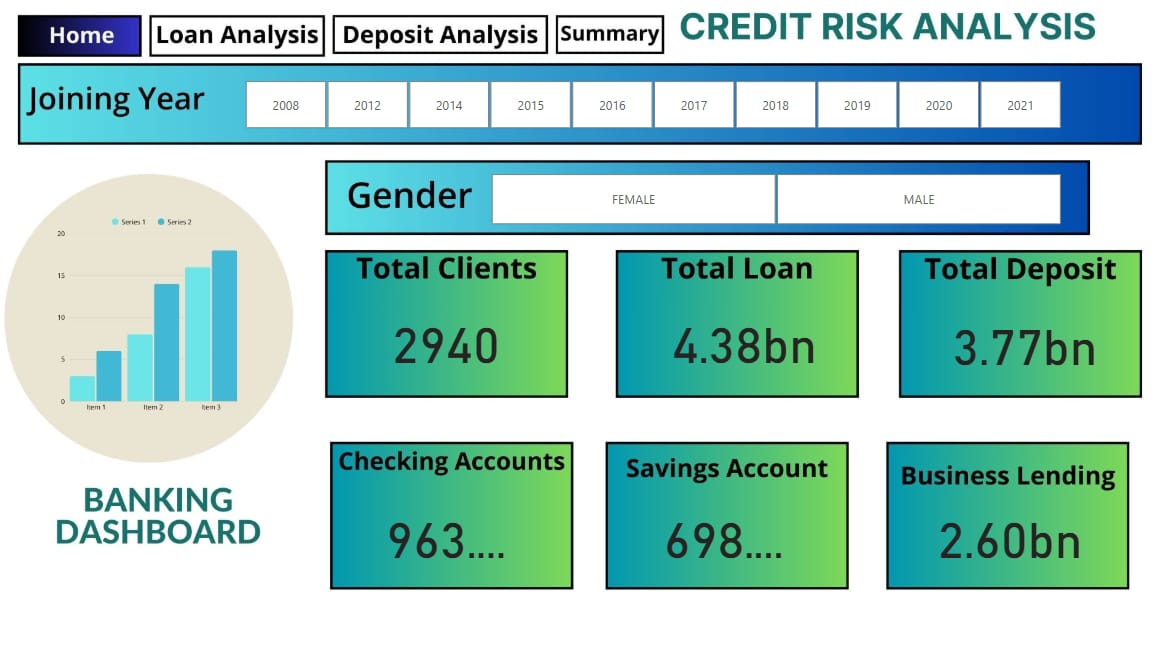

The page's visual inventory and layout, read from the dashboard file:
{"tool":"powerbi","page":{"name":"Home","canvas":[1280,720],"ordinal":0},"visuals":[{"type":"slicer","fields":{"Values":["Banking.Joined Bank.Variation.Date Hierarchy.Year"]},"box":[250,90,933.3,65],"z":0},{"type":"slicer","fields":{"Values":["Banking.GenderId"]},"box":[516.7,190,666.7,68.3],"z":1000},{"type":"card","fields":{"Values":["Count(Banking.Client ID)"]},"box":[386.7,318.3,211.7,115],"z":2000},{"type":"card","fields":{"Values":["Sum(Banking.Loan)"]},"box":[710,318.3,211.7,115],"z":3000},{"type":"card","fields":{"Values":["Sum(Banking.Deposits)"]},"box":[1015,320,211.7,115],"z":4000},{"type":"card","fields":{"Values":["Sum(Banking.Checking Accounts)"]},"box":[386.7,530,211.7,115],"z":5000},{"type":"card","fields":{"Values":["Sum(Banking.Saving Accounts)"]},"box":[688.3,530,211.7,115],"z":6000},{"type":"card","fields":{"Values":["Sum(Banking.Business Lending)"]},"box":[998.3,530,211.7,115],"z":7000},{"type":"actionButton","box":[178.3,26.7,178.3,41.7],"z":8000},{"type":"actionButton","box":[386.7,26.7,211.7,41.7],"z":9000},{"type":"actionButton","box":[615,26.7,115,41.7],"z":10000}]}

Visuals, with their boxes in screenshot pixels (x1, y1, x2, y2), scaled from the page's 1280x720 canvas onto the 1165x649 screenshot:
slicer - Banking.Joined Bank.Variation.Date Hierarchy.Year: {"x1": 228, "y1": 81, "x2": 1077, "y2": 140}
slicer - Banking.GenderId: {"x1": 470, "y1": 171, "x2": 1077, "y2": 233}
card - Count(Banking.Client ID): {"x1": 352, "y1": 287, "x2": 545, "y2": 391}
card - Sum(Banking.Loan): {"x1": 646, "y1": 287, "x2": 839, "y2": 391}
card - Sum(Banking.Deposits): {"x1": 924, "y1": 288, "x2": 1116, "y2": 392}
card - Sum(Banking.Checking Accounts): {"x1": 352, "y1": 478, "x2": 545, "y2": 581}
card - Sum(Banking.Saving Accounts): {"x1": 626, "y1": 478, "x2": 819, "y2": 581}
card - Sum(Banking.Business Lending): {"x1": 909, "y1": 478, "x2": 1101, "y2": 581}
actionButton: {"x1": 162, "y1": 24, "x2": 325, "y2": 62}
actionButton: {"x1": 352, "y1": 24, "x2": 545, "y2": 62}
actionButton: {"x1": 560, "y1": 24, "x2": 664, "y2": 62}
